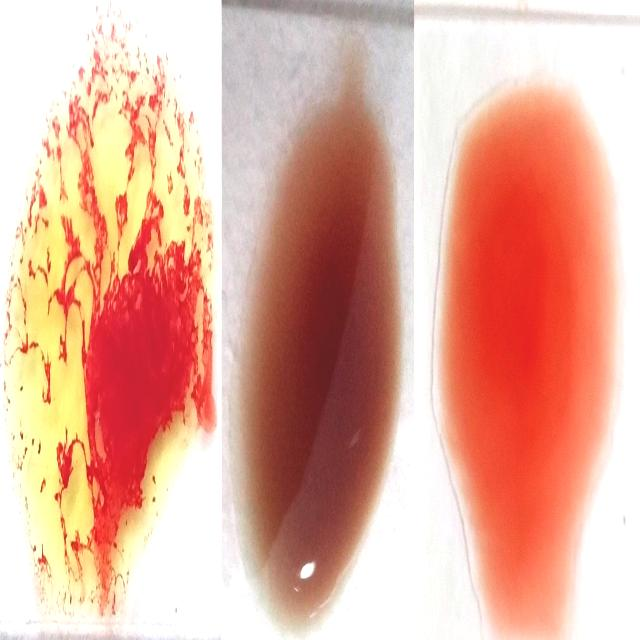B: (5, 0, 217, 640)
